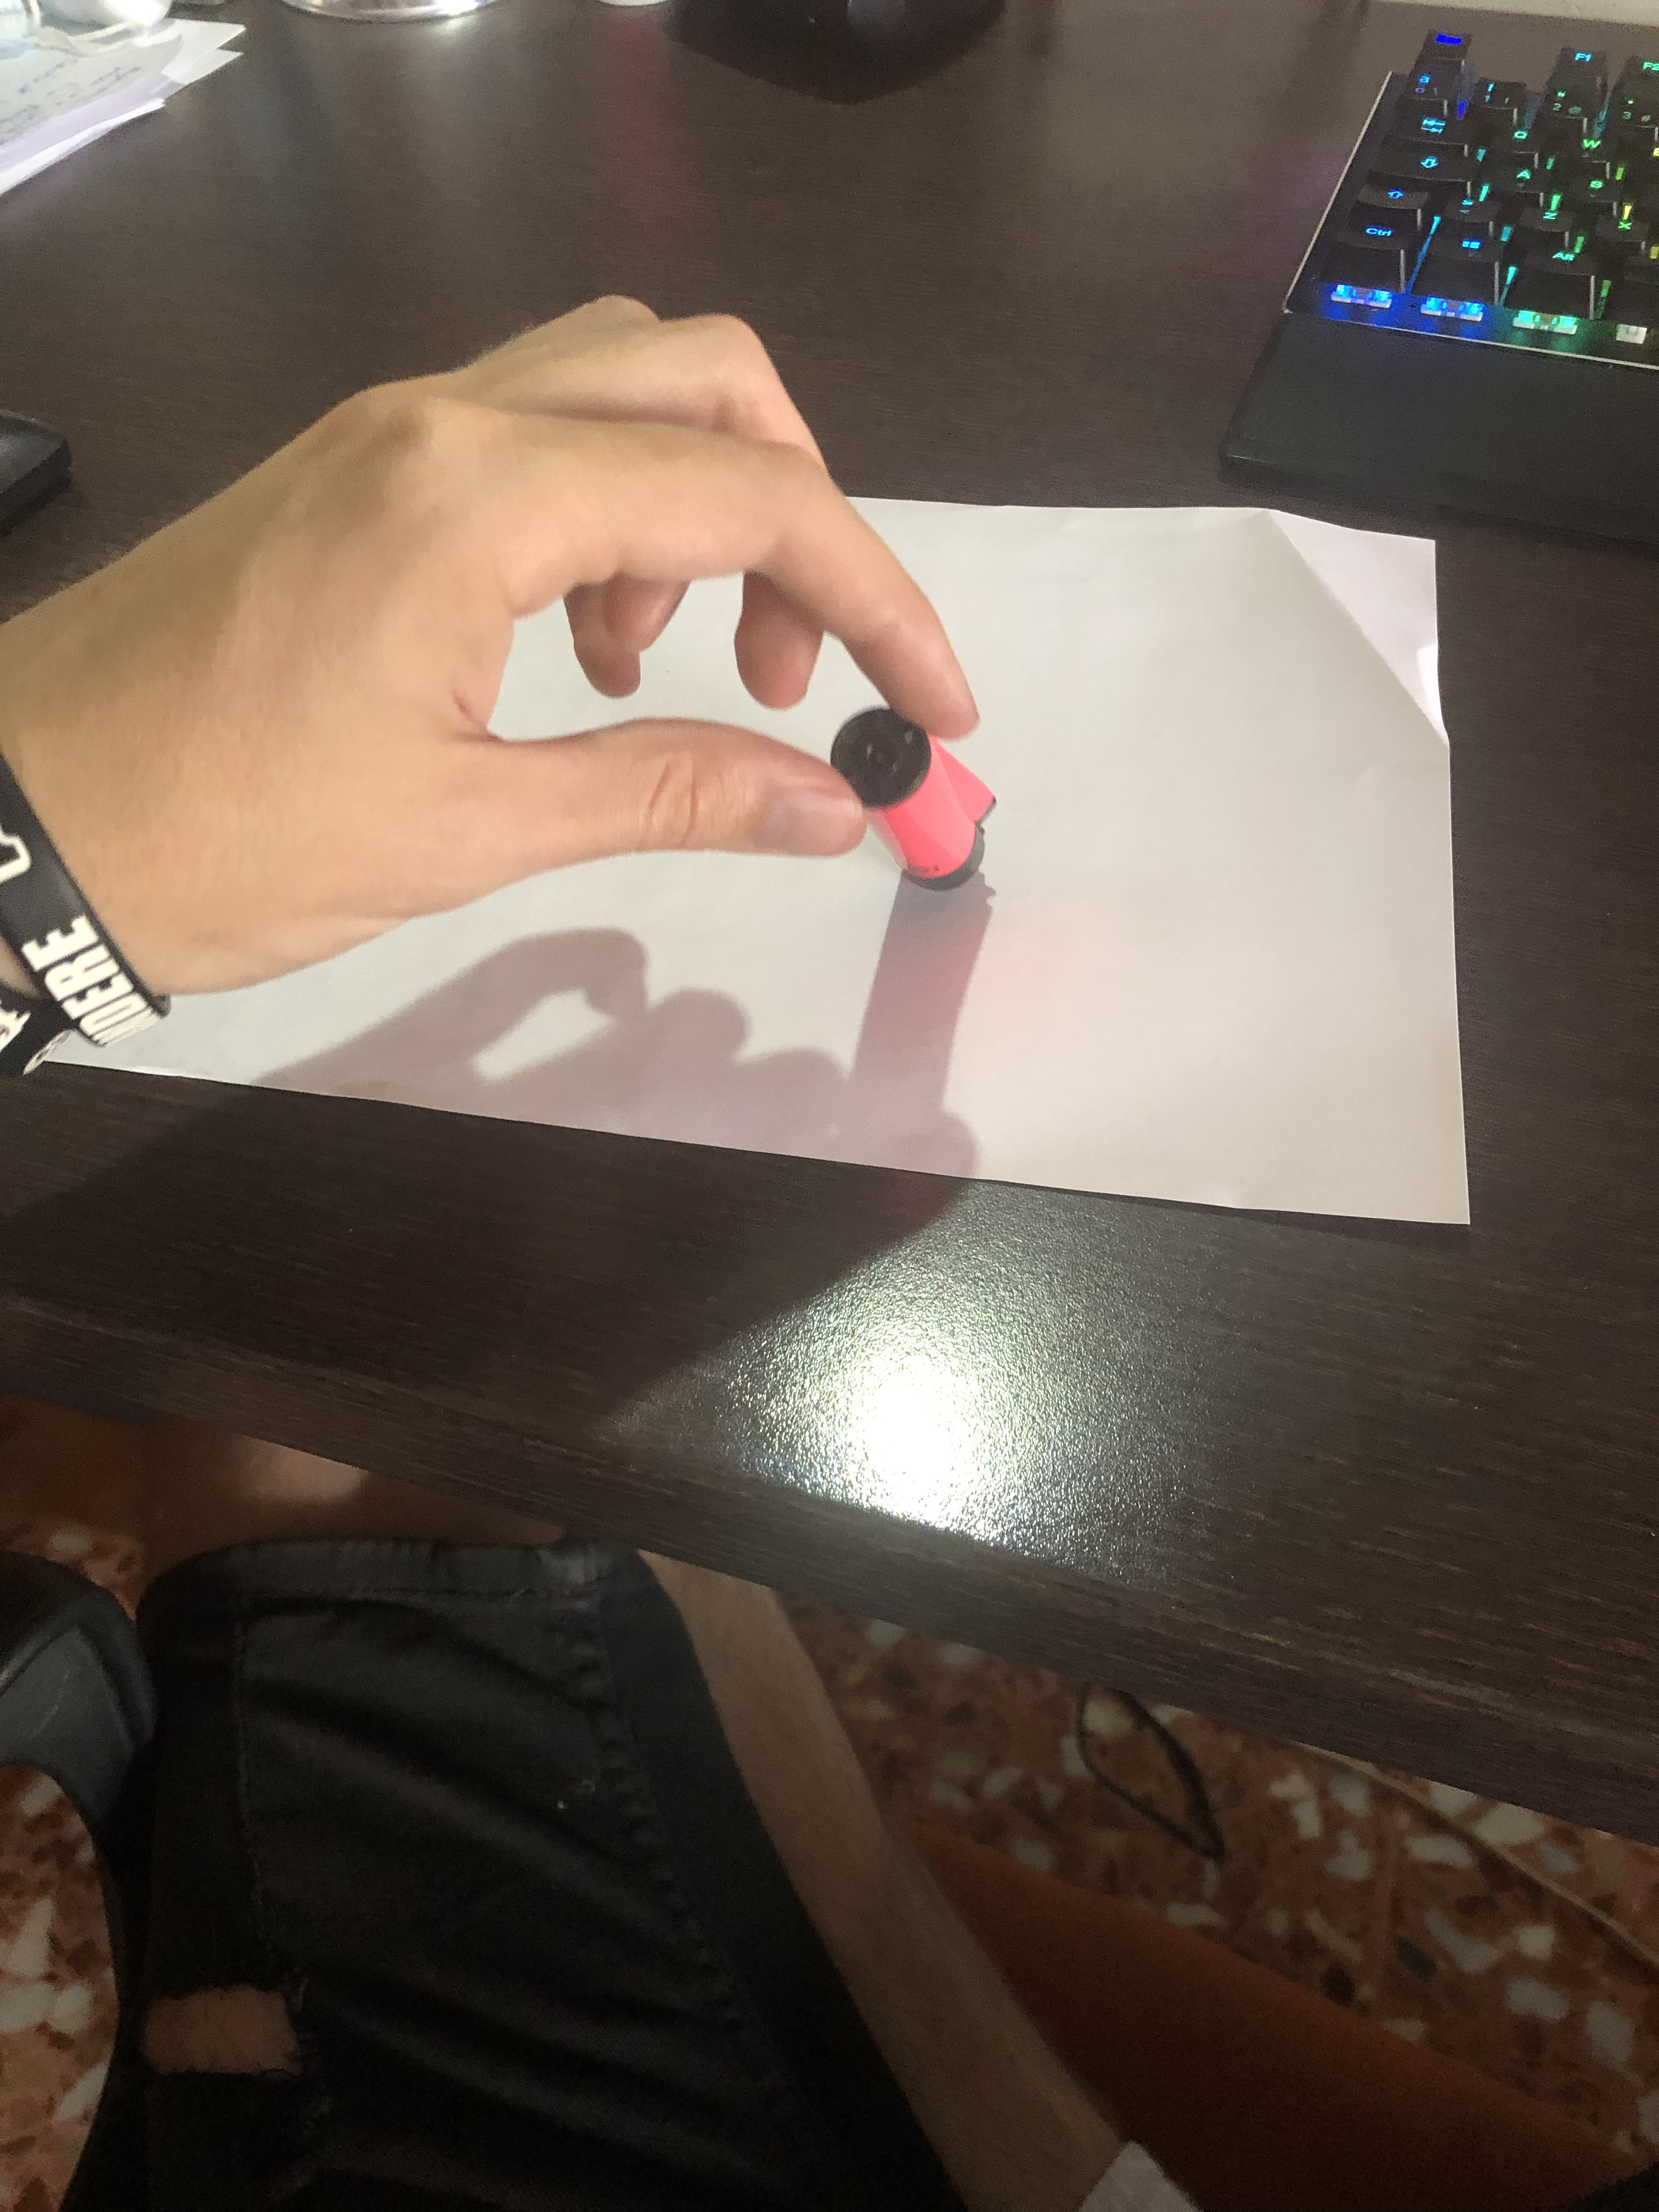Mechero: (817, 702, 1044, 956)
